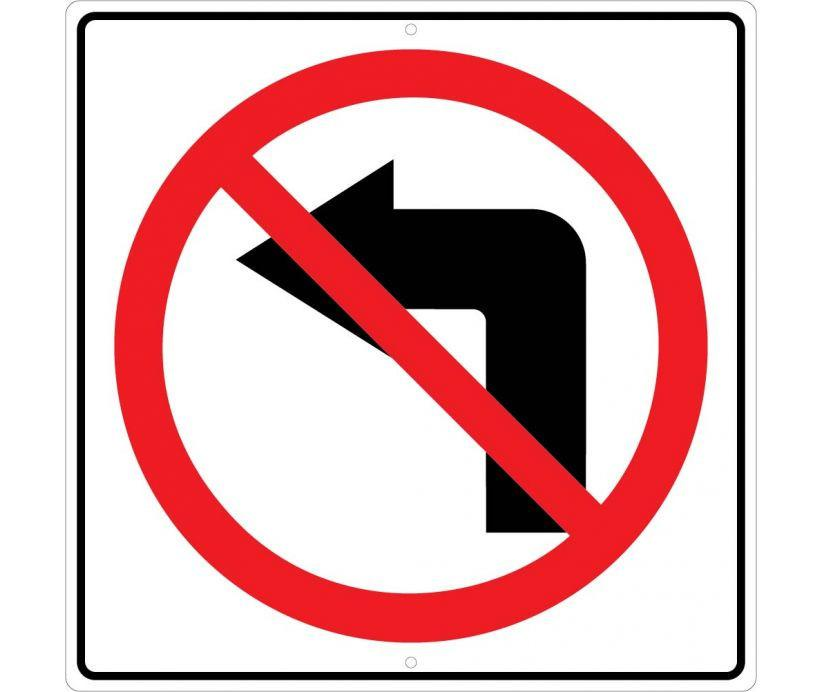no_left_turn: (110, 48, 708, 639)
